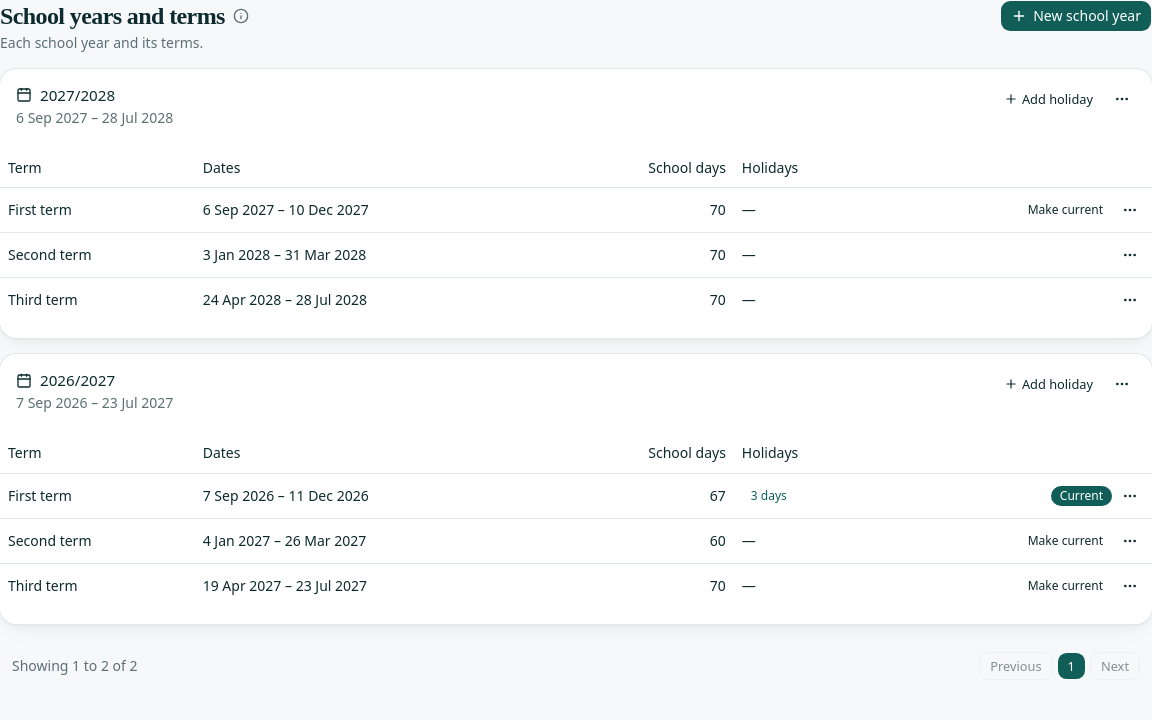
Test: CalendarPage › Delete school year › opens the confirmation for a year that can go
Click the button named "More for 2027/2028".
click(1122, 99)  # box x1=1108 y1=85 x2=1136 y2=113
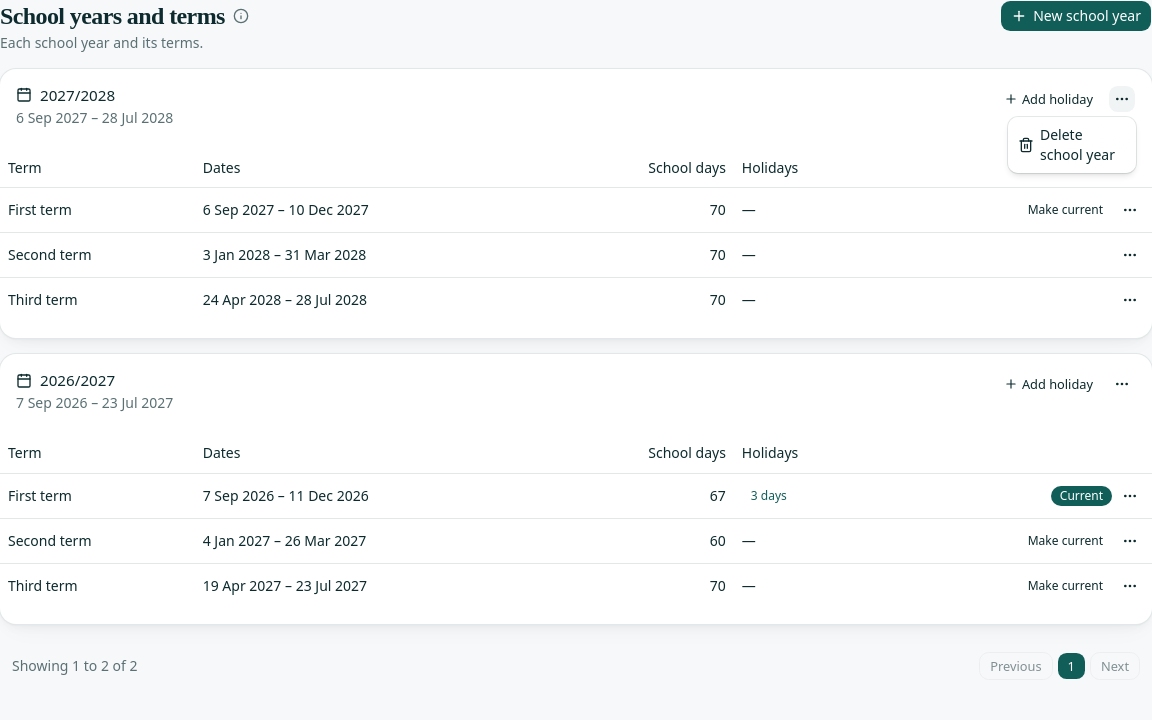
Click the menu item "Delete school year".
click(1066, 144)  # box x1=1018 y1=125 x2=1115 y2=164
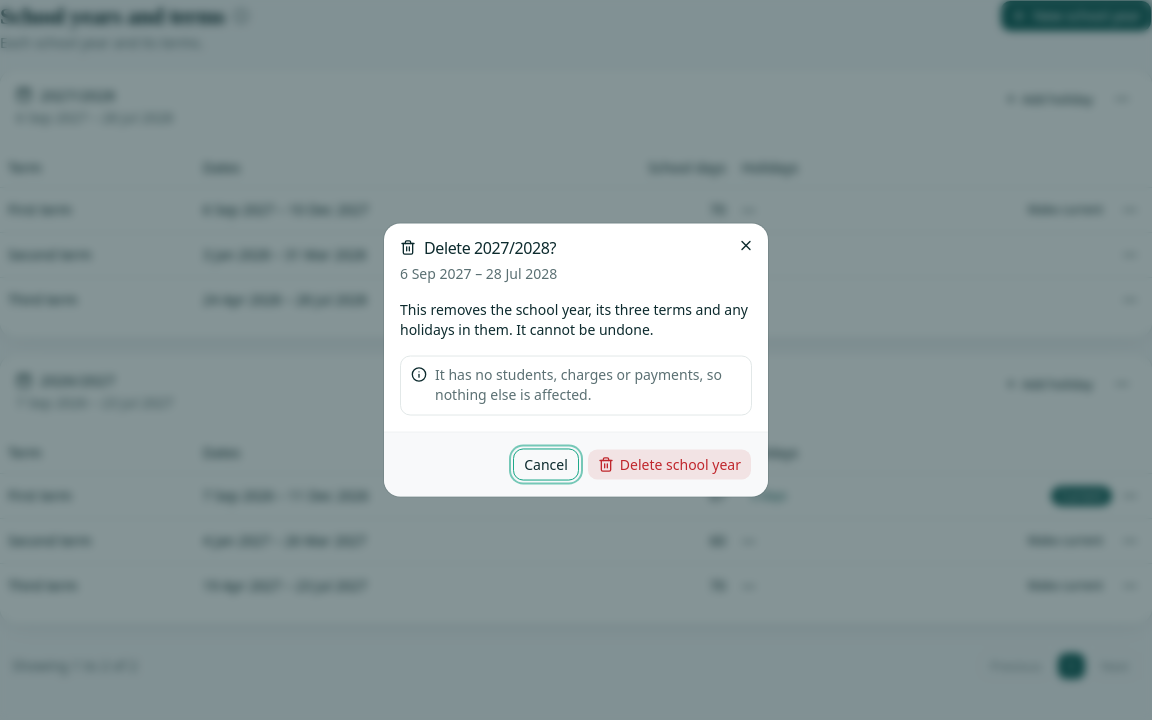
expect the heading "Delete 2027/2028?" is shown: met, box x1=400 y1=236 x2=556 y2=258
expect the text "This removes the school year, its three terms and any holidays in them. It cannot be undone." is shown: met, box x1=400 y1=300 x2=748 y2=338
